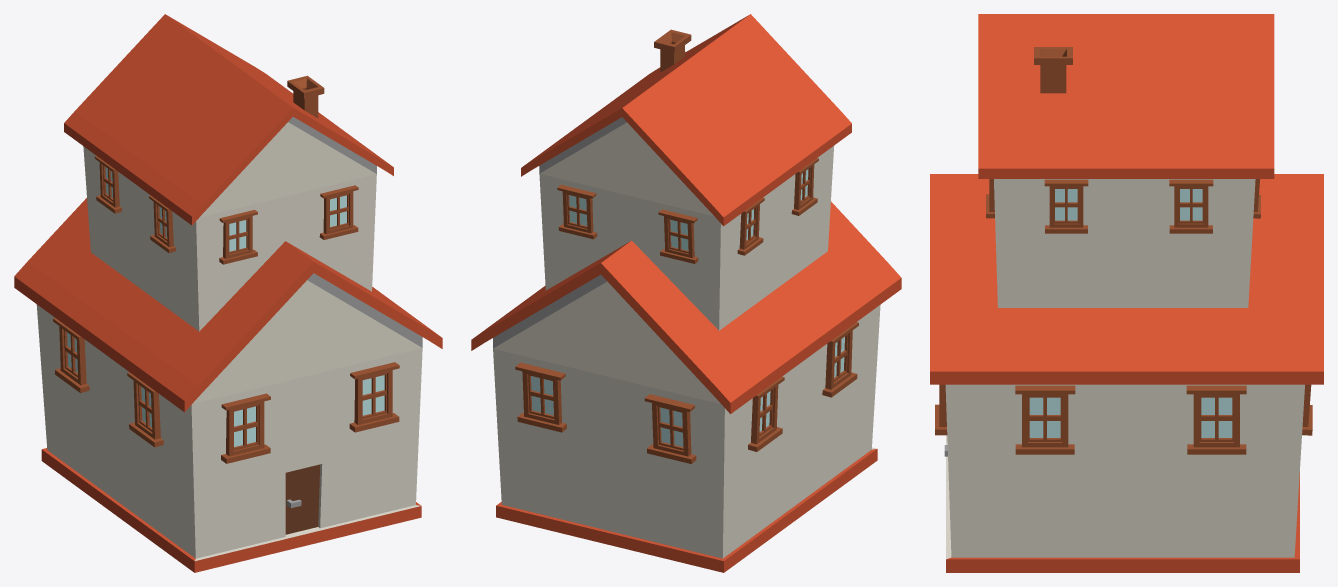
The model's file is house3.glb.
3 renders of one model, left to right at view 1: azimuth 30°, elevation 25°; view 2: azimuth 150°, elevation 25°; view 3: azimuth 270°, elevation 25°, orthographic. The views are drawn at different scales.
Visible parts, largest first — view 1: House3_Cube.034; view 2: House3_Cube.034; view 3: House3_Cube.034.
Boxes of the visible parts, x1=… form: House3_Cube.034: x1=14, y1=14, x2=442, y2=572; House3_Cube.034: x1=471, y1=14, x2=901, y2=572; House3_Cube.034: x1=930, y1=14, x2=1323, y2=572.
Bounding box in the file's own units: 1.25 × 1.99 × 1.43.
1 material, 1 textured.
